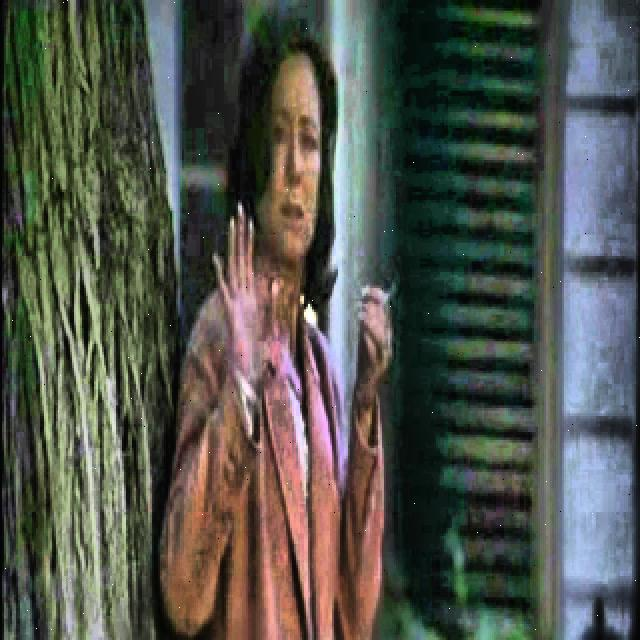T: (156, 28, 395, 640)
